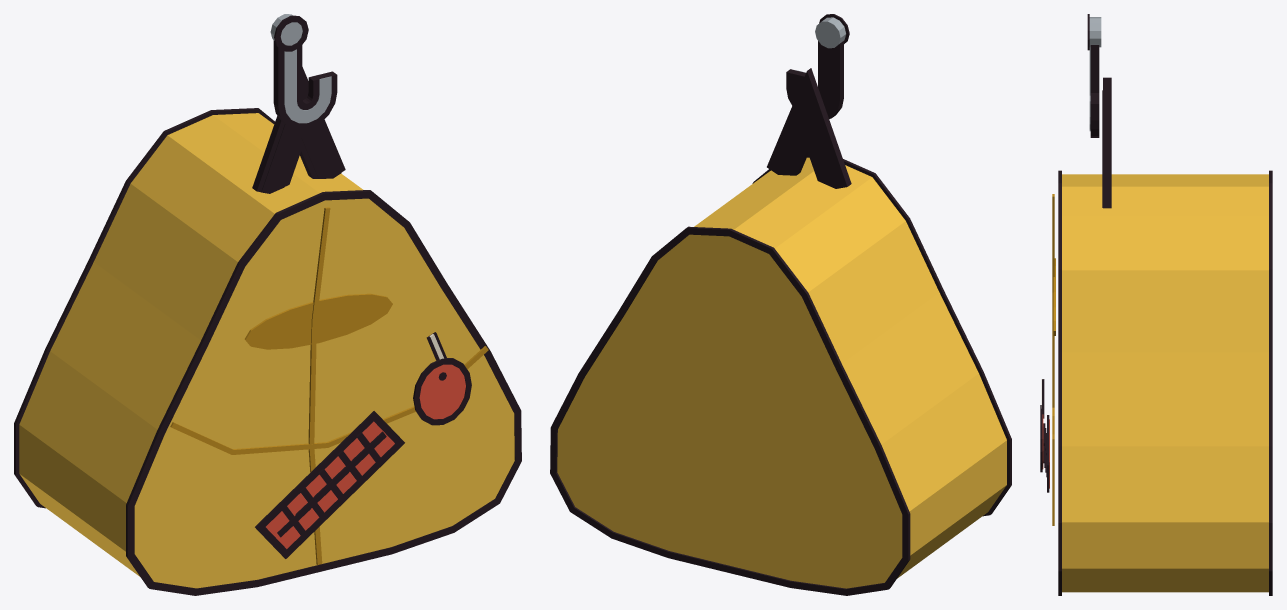
3 renders of one model, left to right at view 1: azimuth 30°, elevation 25°; view 2: azimuth 150°, elevation 25°; view 3: azimuth 270°, elevation 25°, orthographic. The views are drawn at different scales.
Parts seen in each view (by area): view 1: Bag Holders proposal; view 2: Bag Holders proposal; view 3: Bag Holders proposal.
Boxes of the visible parts, bbox=[...] form: Bag Holders proposal: bbox=[14, 14, 521, 595]; Bag Holders proposal: bbox=[550, 14, 1011, 595]; Bag Holders proposal: bbox=[1040, 14, 1272, 595].
Bounding box in the file's own units: 0.7737 × 1.03 × 0.4195.
